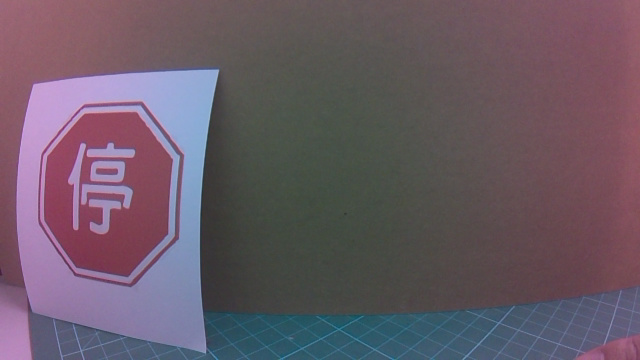stop: (30, 92, 216, 298)
